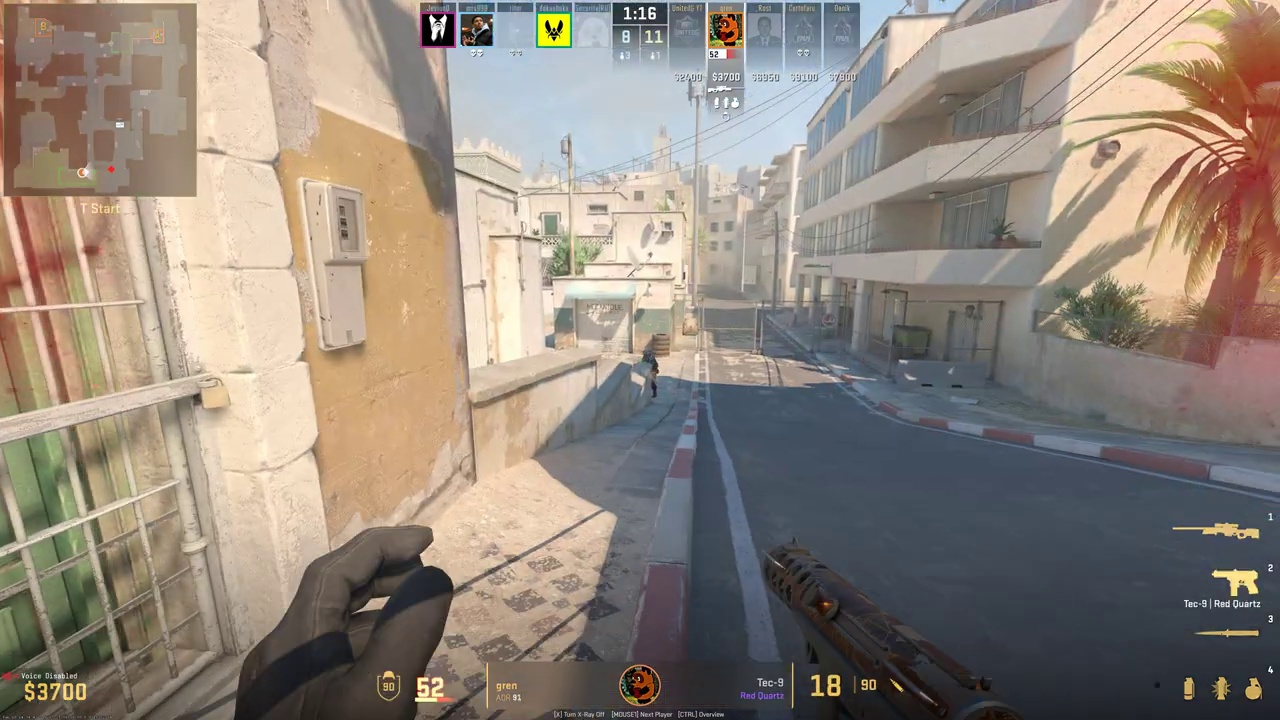CT: (642, 351, 658, 397)
